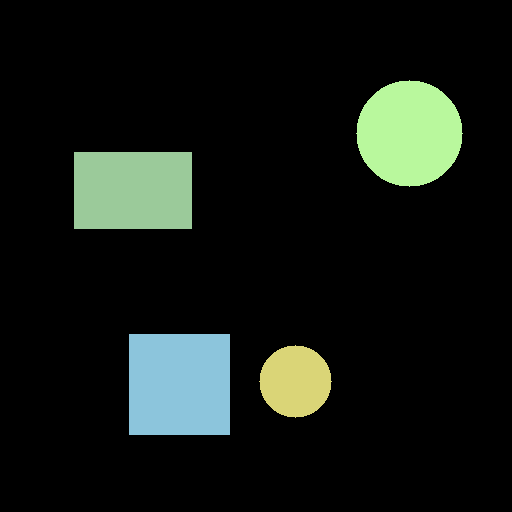circle: (356, 80, 462, 186), (259, 345, 331, 417)
rectangle: (74, 152, 191, 228)
square: (129, 334, 229, 434)
